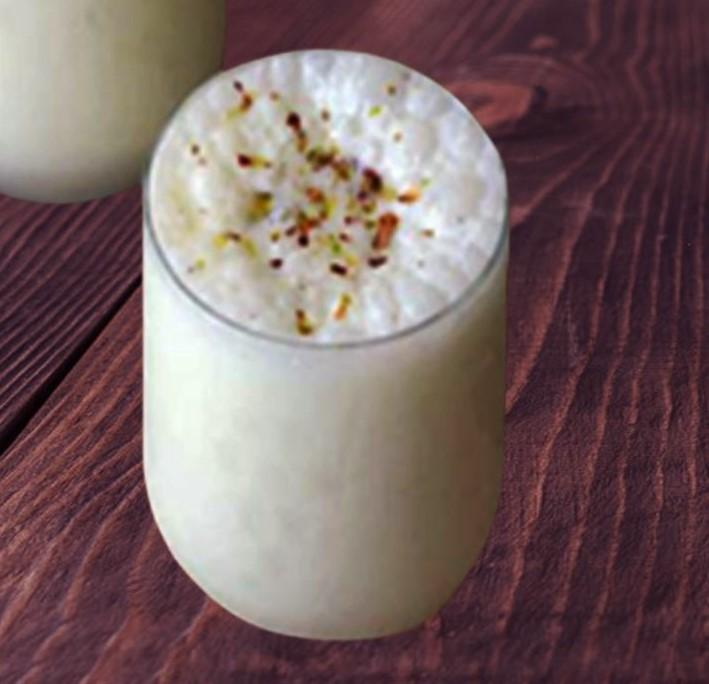Lassi: (145, 51, 509, 637)
